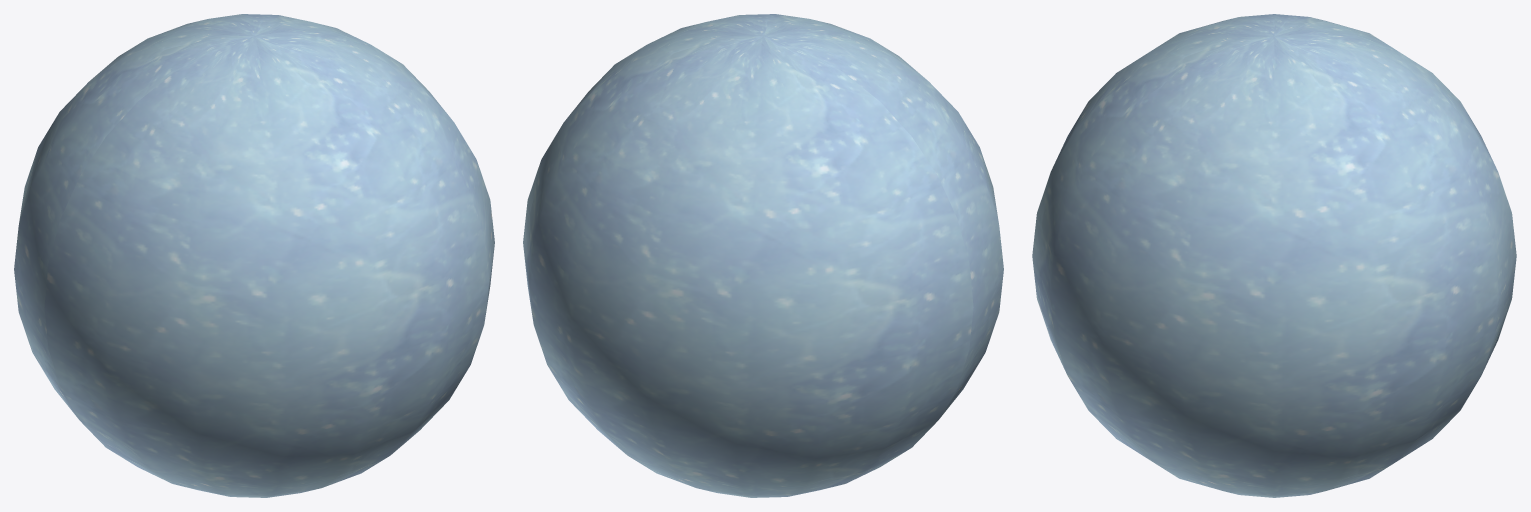
Rendered from Pelota.obj.
3 renders of one model, left to right at view 1: azimuth 30°, elevation 25°; view 2: azimuth 150°, elevation 25°; view 3: azimuth 270°, elevation 25°, orthographic.
Visible parts, largest first — view 1: Pelota; view 2: Pelota; view 3: Pelota.
Boxes of the visible parts, left/top/right/bottom form: Pelota: left=14, top=14, right=494, bottom=497; Pelota: left=523, top=14, right=1003, bottom=497; Pelota: left=1032, top=14, right=1516, bottom=497.
Bounding box in the file's own units: 0.1215 × 0.1215 × 0.1215.
Materials: 1 (1 with a texture image).
